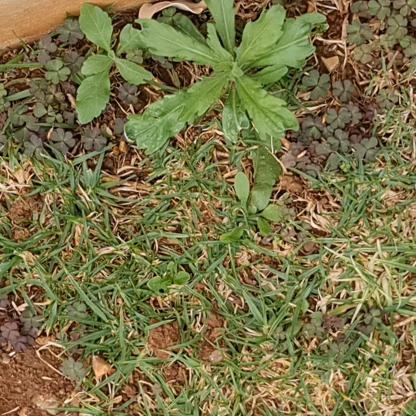Weeds: (123, 0, 328, 159), (76, 1, 161, 128), (218, 171, 286, 248), (147, 263, 191, 297)
